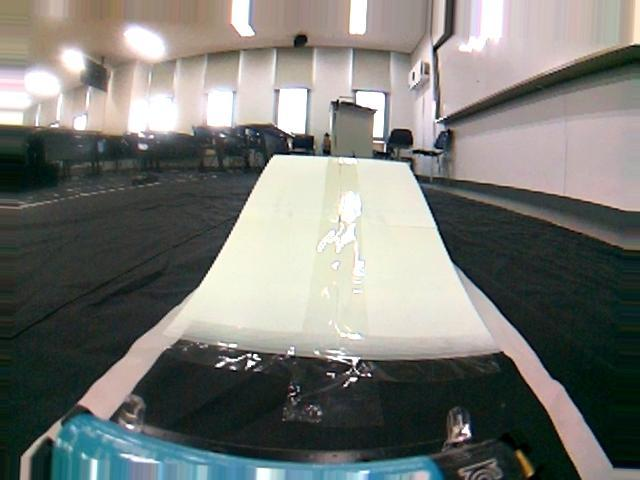hill_up: (190, 151, 489, 364)
